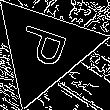P_E: (13, 23, 75, 74)
